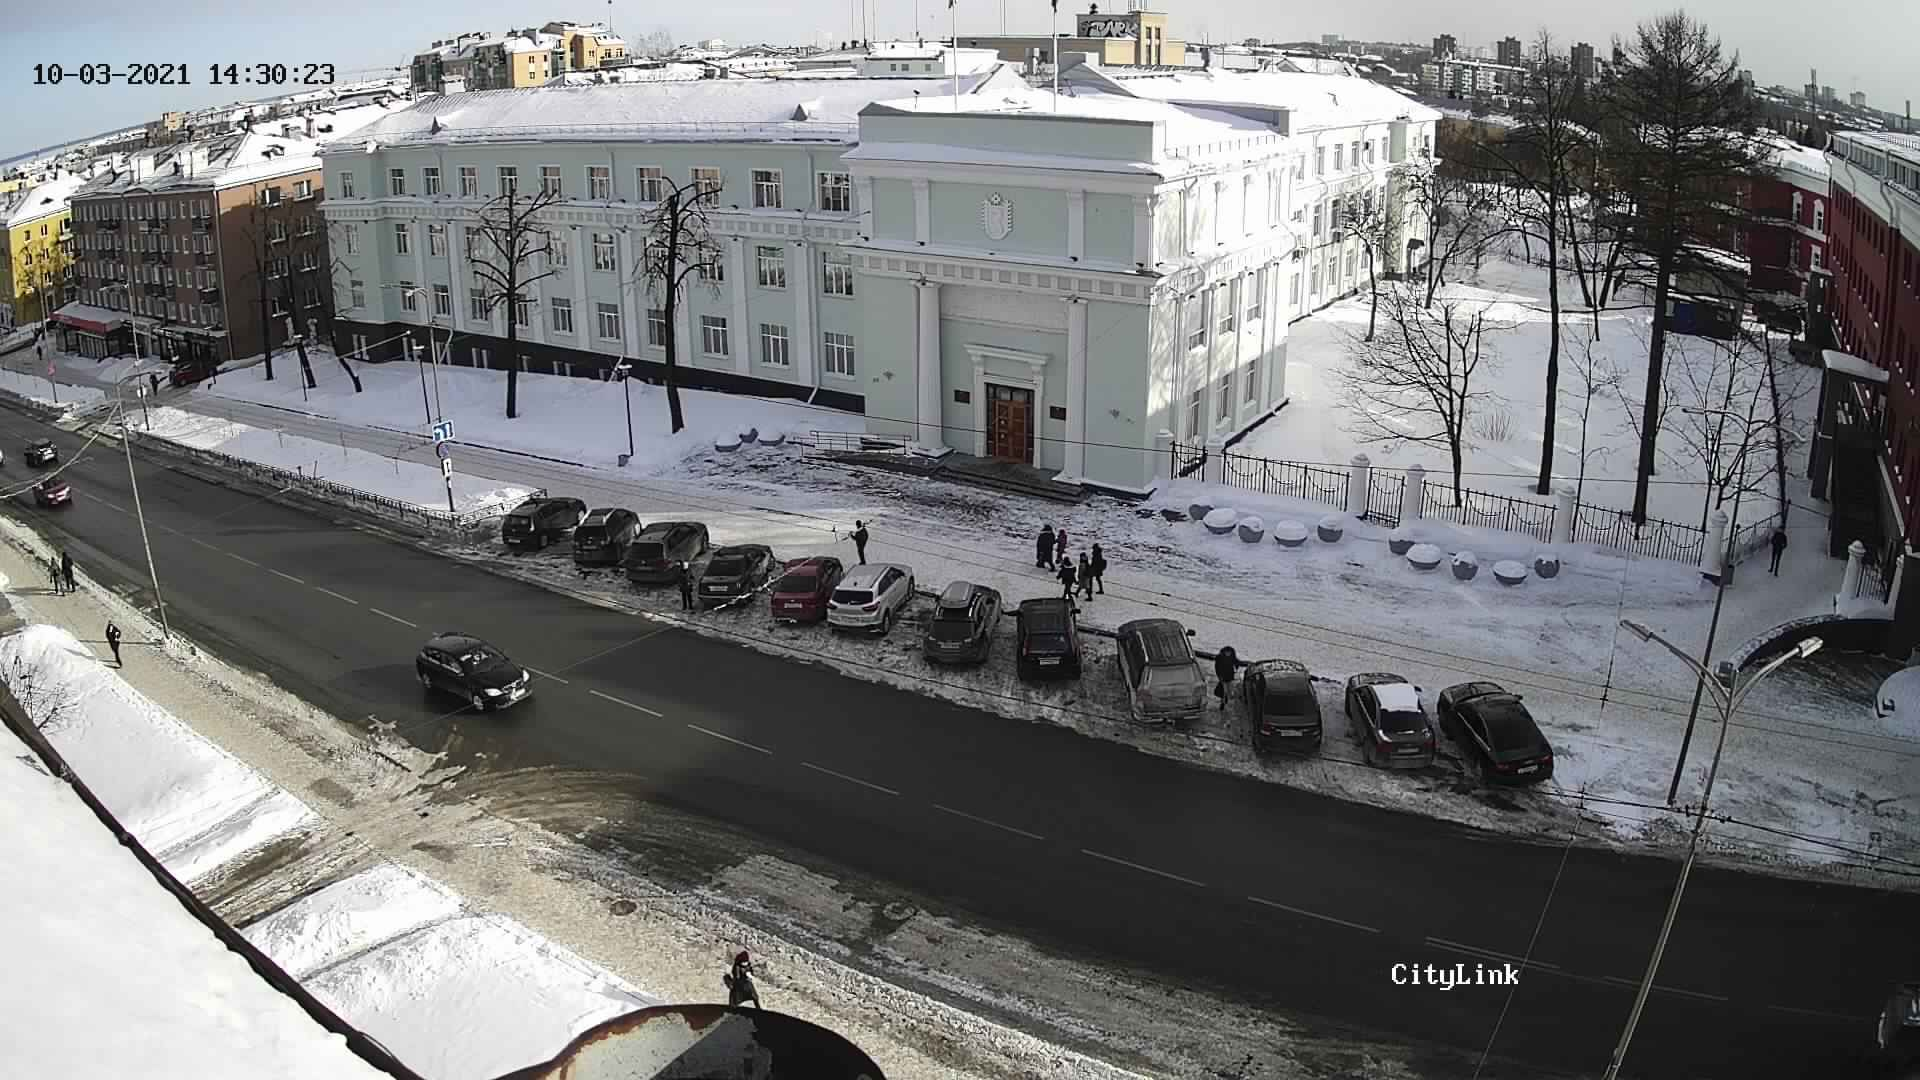car: (1436, 673, 1563, 793), (1102, 615, 1217, 736), (1327, 665, 1437, 782), (1232, 646, 1328, 766), (1009, 593, 1098, 698), (827, 554, 919, 653), (914, 578, 1007, 674), (762, 549, 841, 636), (487, 480, 585, 545), (632, 509, 707, 589), (699, 541, 774, 618), (576, 501, 642, 571)
